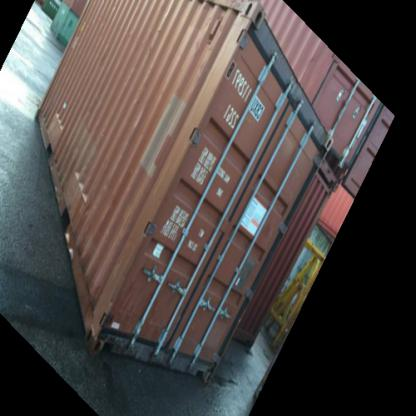Damage: (90, 309, 134, 350), (71, 147, 97, 199), (50, 98, 69, 134)
